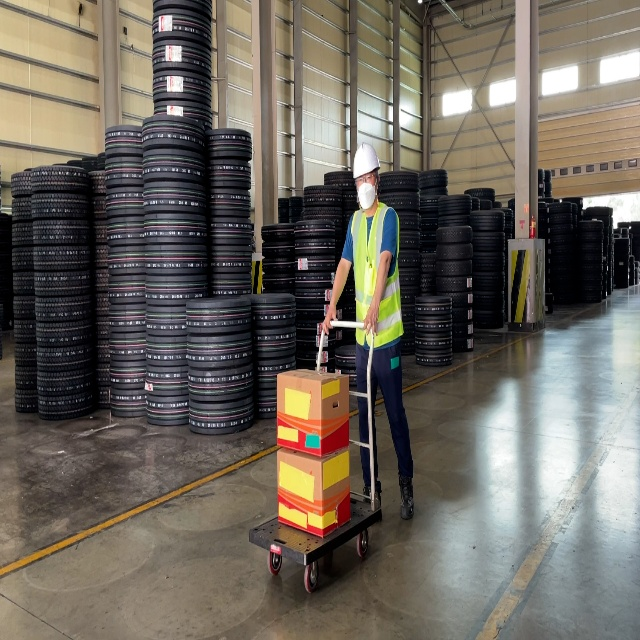Box: (276, 446, 351, 539), (276, 368, 350, 459)
Worker: (321, 142, 414, 520)
